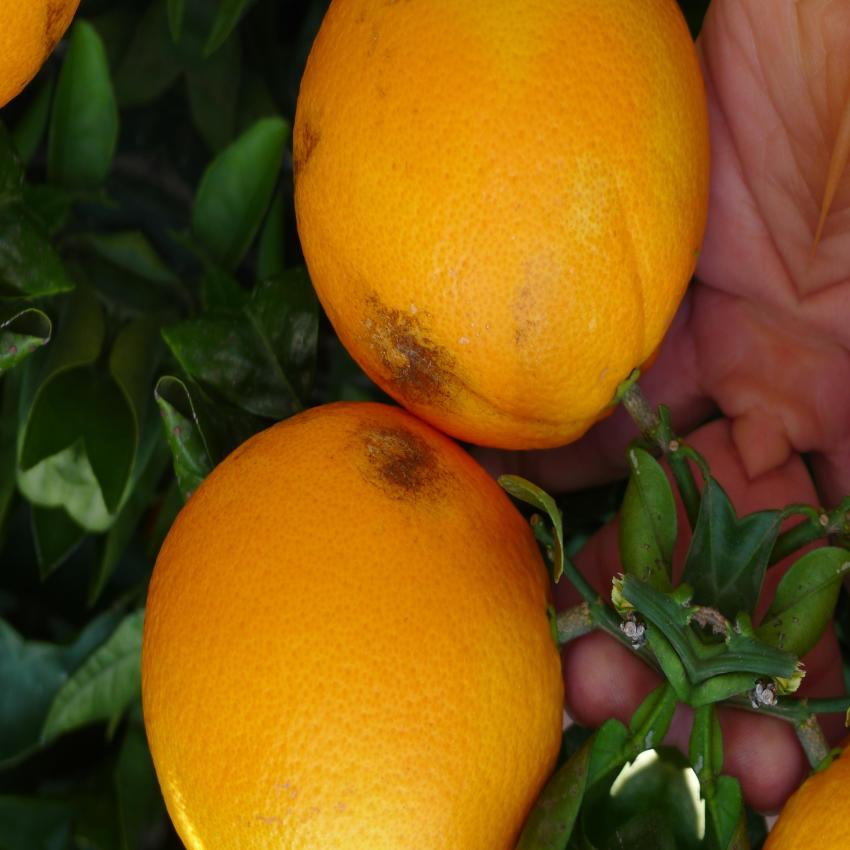Mal estado: (213, 0, 689, 465), (78, 403, 581, 840)
